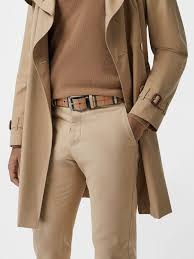F_belt: (48, 91, 127, 114)
